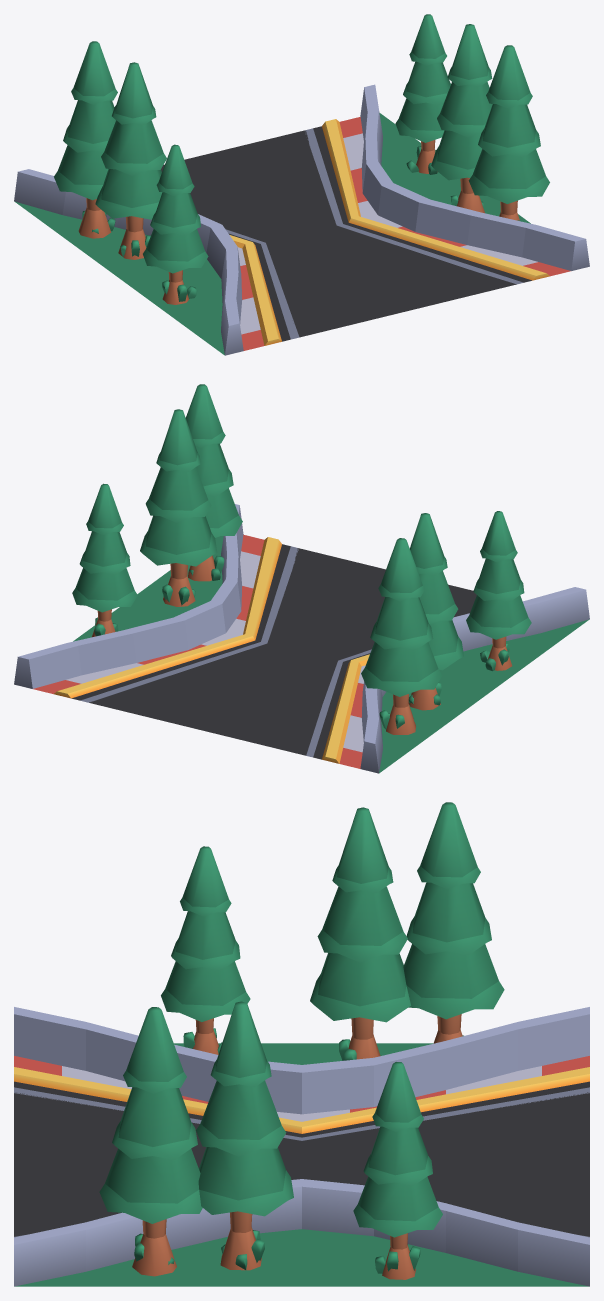
Rendered from track-choke-both.glb.
3 views of the same model, one above another, from view 1: azimuth 30°, elevation 25°; view 2: azimuth 150°, elevation 25°; view 3: azimuth 270°, elevation 25° (orthographic). The views are drawn at different scales.
Parts seen in each view (by area): view 1: track-straight.003; view 2: track-straight.003; view 3: track-straight.003.
Part boxes in pixels (bbox=[...]): track-straight.003: bbox=[14, 14, 589, 355]; track-straight.003: bbox=[14, 384, 589, 773]; track-straight.003: bbox=[14, 802, 589, 1286].
Size of the model in its own units: 10.33 by 4.94 by 10.
Materials: 2 (2 with a texture image).
